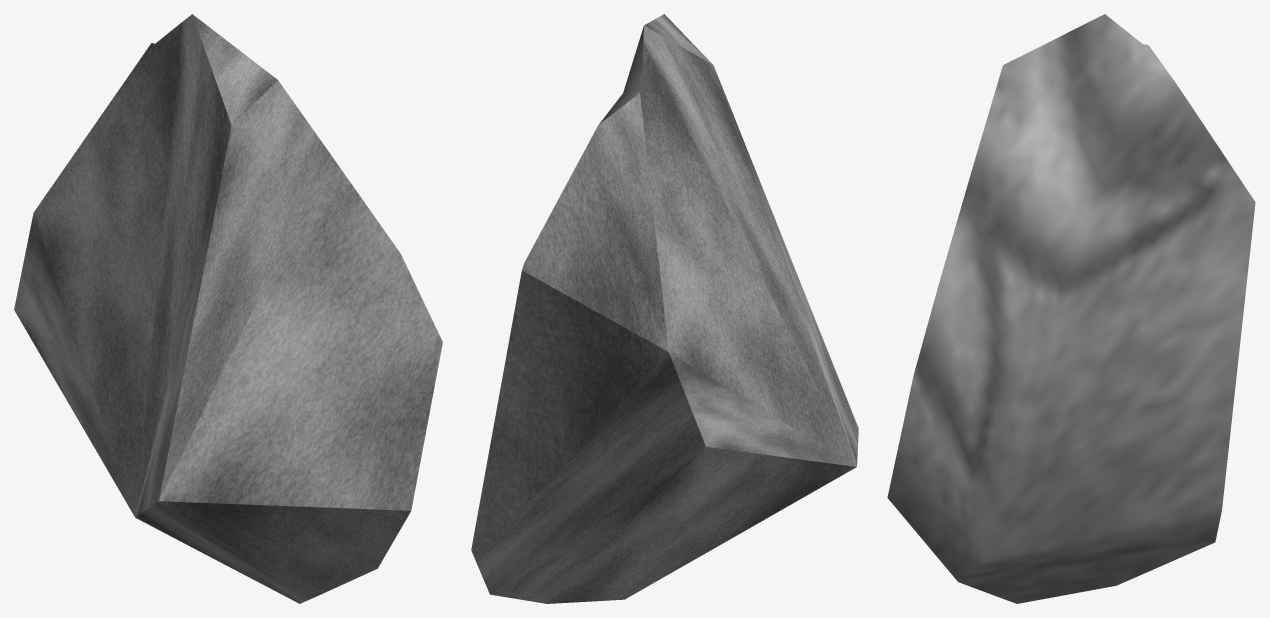
Rendered from body_cell_081.fbx.
3 views of the same model, side by side, from view 1: azimuth 30°, elevation 25°; view 2: azimuth 150°, elevation 25°; view 3: azimuth 270°, elevation 25° (orthographic). The views are drawn at different scales.
Parts seen in each view (by area): view 1: body_cell.081; view 2: body_cell.081; view 3: body_cell.081.
Boxes of the visible parts, bbox=[...] form: body_cell.081: bbox=[14, 14, 442, 603]; body_cell.081: bbox=[471, 14, 858, 603]; body_cell.081: bbox=[887, 14, 1255, 603].
Bounding box in the file's own units: 28.25 × 55.45 × 33.03.
